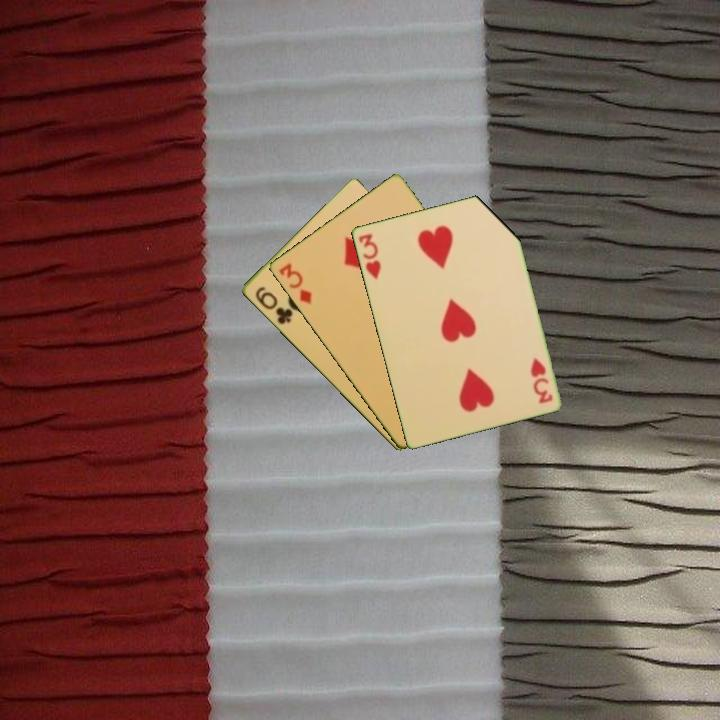3d: (275, 259, 314, 307)
3h: (354, 230, 383, 282), (527, 354, 555, 406)
6c: (251, 283, 295, 327)
